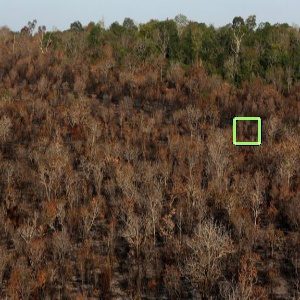square: (231, 115, 263, 147)
